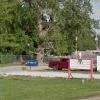Tree: (17, 4, 80, 53)
